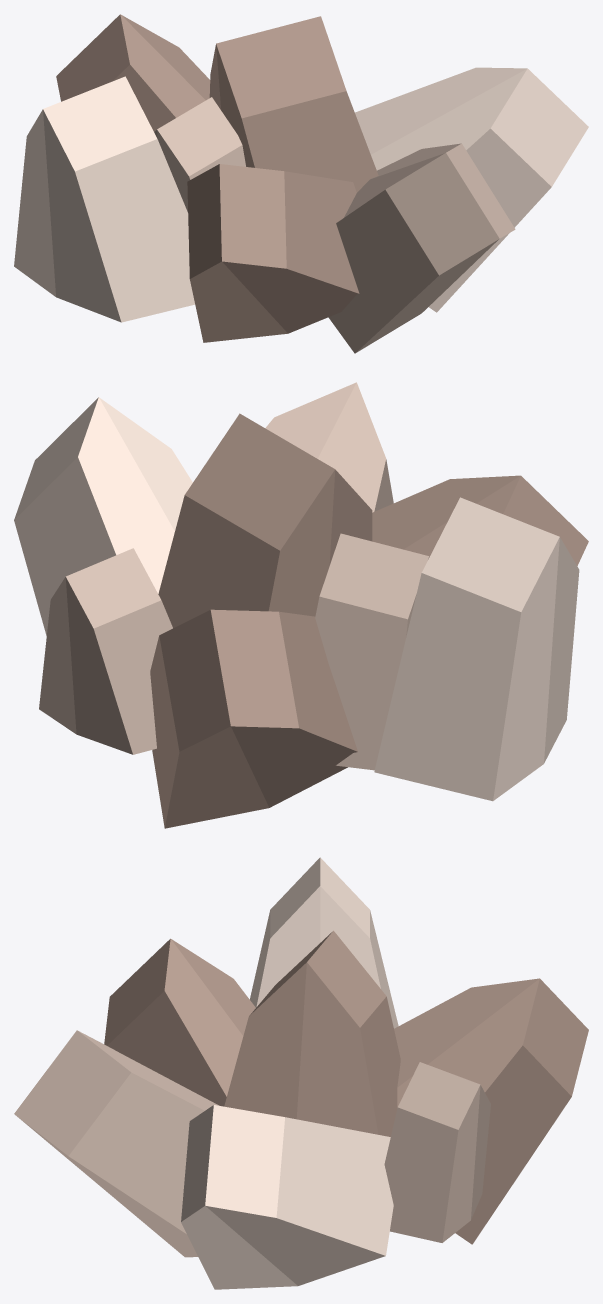
File: rock-type3-04-sand.glb
3 renders of one model, top to bottom at view 1: azimuth 30°, elevation 25°; view 2: azimuth 150°, elevation 25°; view 3: azimuth 270°, elevation 25°, orthographic. The views are drawn at different scales.
Visible parts, largest first — view 1: Rock_Type3_04_mesh; view 2: Rock_Type3_04_mesh; view 3: Rock_Type3_04_mesh.
Part boxes in pixels (x1=…): Rock_Type3_04_mesh: x1=14, y1=14, x2=588, y2=353; Rock_Type3_04_mesh: x1=14, y1=382, x2=588, y2=828; Rock_Type3_04_mesh: x1=14, y1=857, x2=588, y2=1289.
Bounding box in the file's own units: 1.29 × 0.7066 × 1.26.
1 material, 1 textured.
